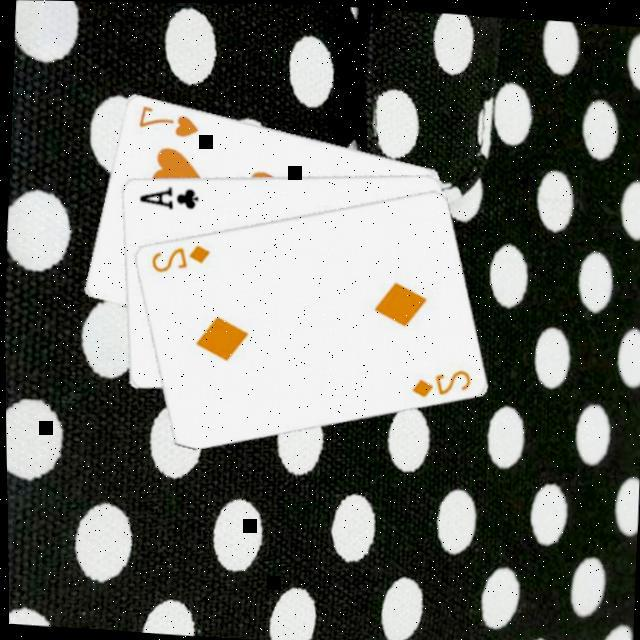2D: (147, 239, 213, 279), (408, 362, 474, 402)
7H: (135, 103, 203, 142)
AC: (136, 181, 203, 215)
